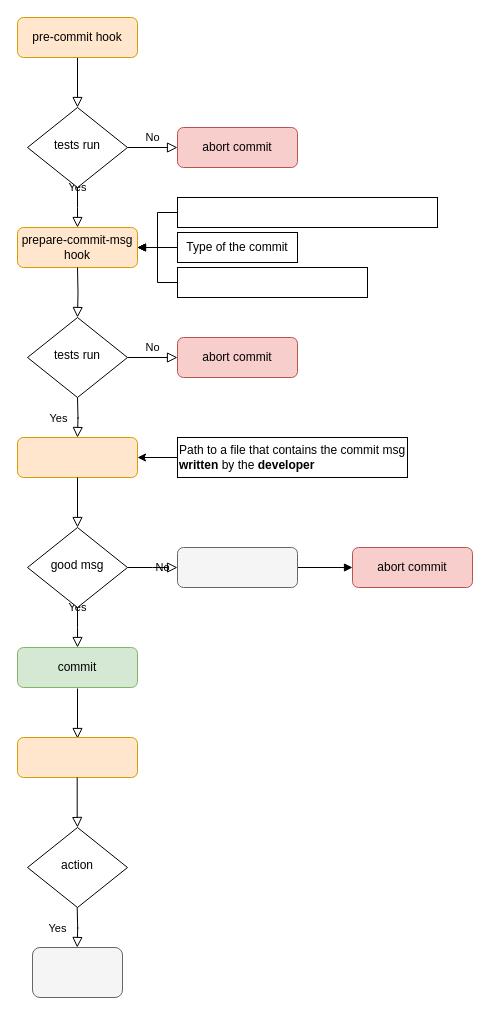
Image size: 490x1015. Some labels were removed from this diagram. Each missing label, with the centre of its shape:
"commit-msg hook" goes at point (77, 457).
"notifications" goes at point (77, 972).
"Path to the file that holds the comiit msg so far" goes at point (307, 212).
"post-commit hook" goes at point (77, 757).
"SHA-1 if it's an amended commit" goes at point (272, 282).
"show error" goes at point (237, 567).
